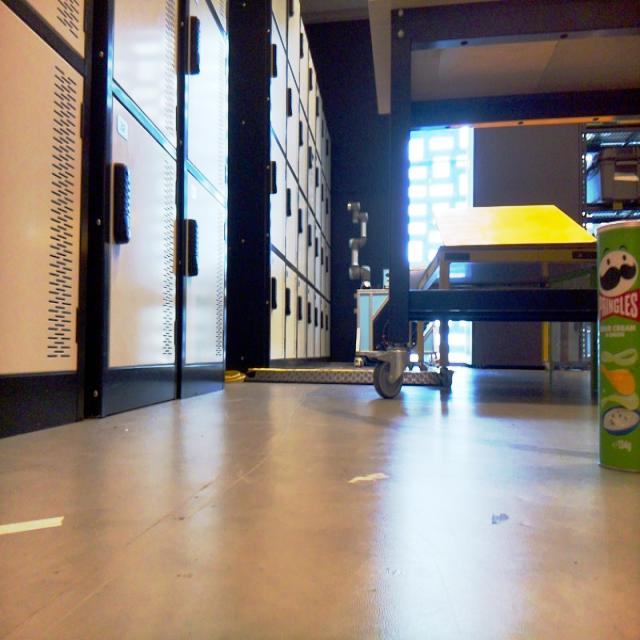greenpringles: (572, 202, 640, 488)
